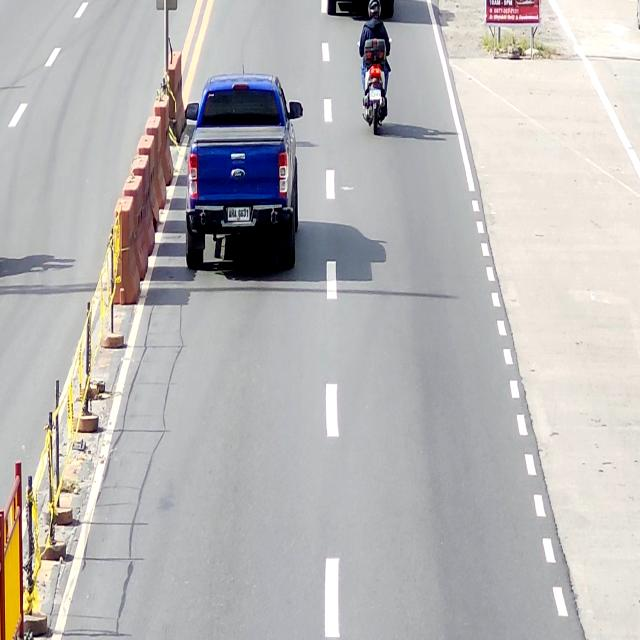Car: (184, 72, 303, 270)
License-Plate: (224, 203, 253, 223), (368, 87, 383, 102)
Motorcycle: (358, 38, 390, 136)
